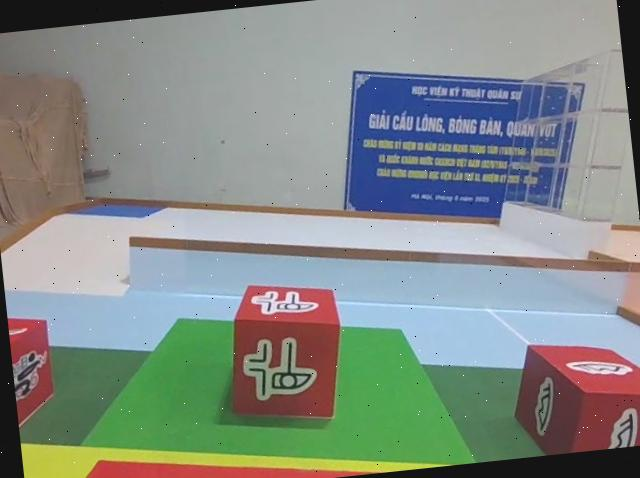R1: (6, 308, 58, 450)
R2 Real: (219, 275, 349, 439), (503, 332, 640, 459)
